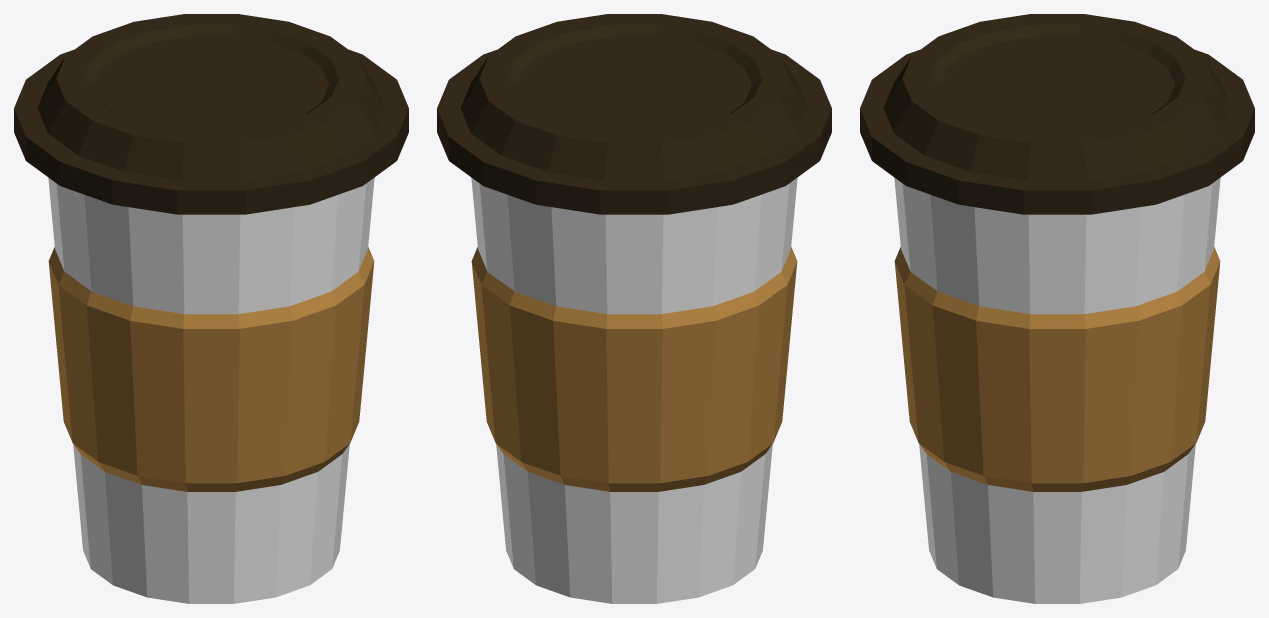
File: CoffeeCup.fbx
3 views of the same model, side by side, from view 1: azimuth 30°, elevation 25°; view 2: azimuth 150°, elevation 25°; view 3: azimuth 270°, elevation 25° (orthographic).
Visible parts, largest first — view 1: Cylinder.004; view 2: Cylinder.004; view 3: Cylinder.004.
Part boxes in pixels (x1=…): Cylinder.004: x1=14, y1=14, x2=408, y2=603; Cylinder.004: x1=437, y1=14, x2=831, y2=603; Cylinder.004: x1=860, y1=14, x2=1254, y2=603.
Bounding box in the file's own units: 298 × 399 × 302.
